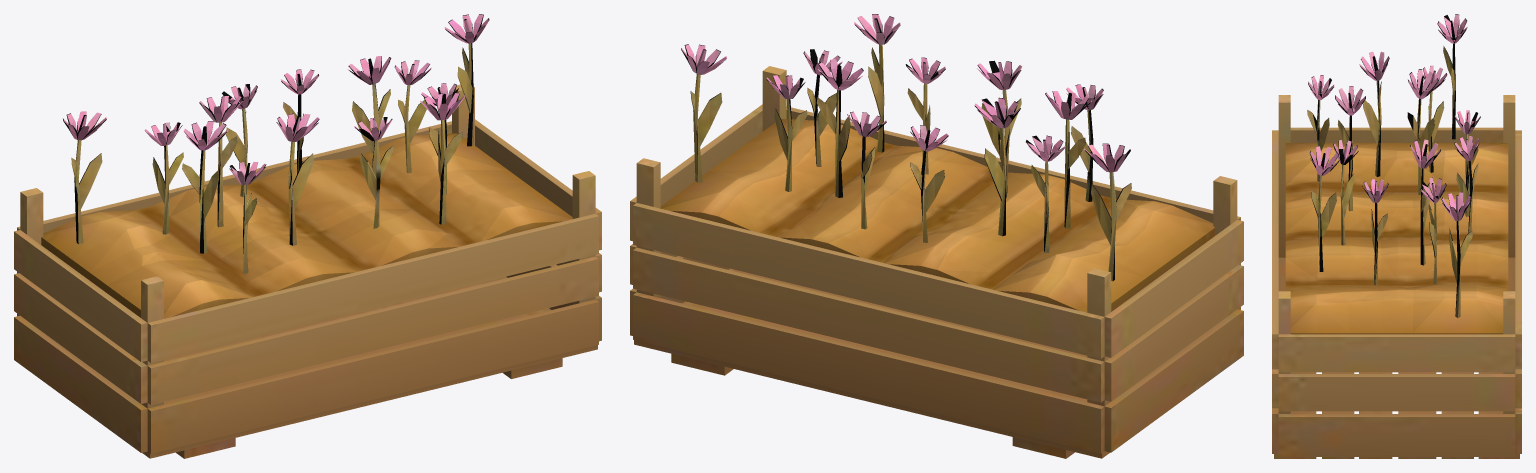
File: flowerbed_crate_low.glb
3 renders of one model, left to right at view 1: azimuth 30°, elevation 25°; view 2: azimuth 150°, elevation 25°; view 3: azimuth 270°, elevation 25°, orthographic. The views are drawn at different scales.
Parts seen in each view (by area): view 1: flowerbed_crate_low; view 2: flowerbed_crate_low; view 3: flowerbed_crate_low.
Boxes of the visible parts, x1,y1,x2,y2 form: flowerbed_crate_low: (14, 14, 601, 458); flowerbed_crate_low: (630, 14, 1243, 458); flowerbed_crate_low: (1272, 14, 1521, 458).
Bounding box in the file's own units: 1.21 × 0.6915 × 0.61.
Materials: 1 (1 with a texture image).
